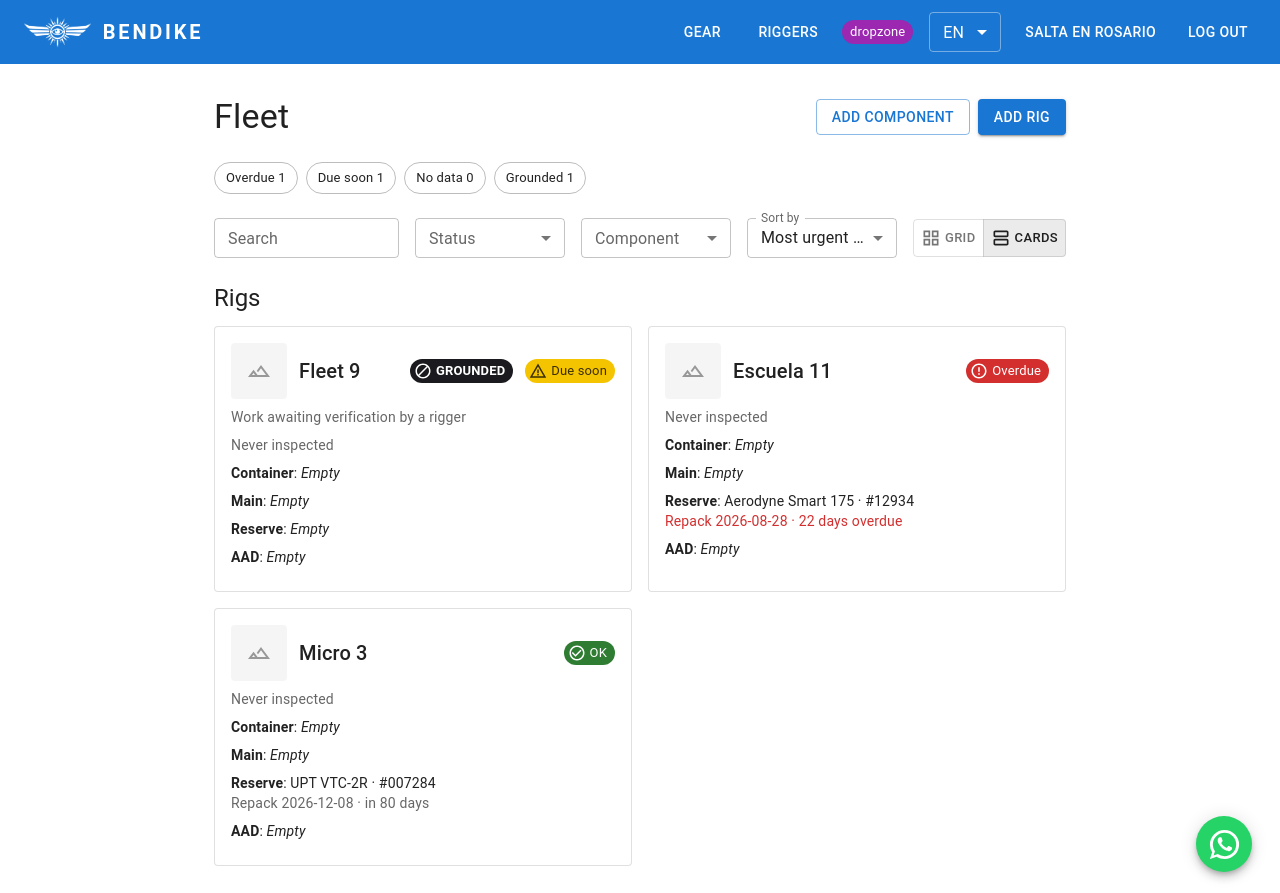
it: GearPage › searching by serial finds the rig
Check: the link "Micro 3" is shown, box [299,641,368,665]
Type "007284" into the field labelled "Search" at (306, 238), box [214,218,399,258]
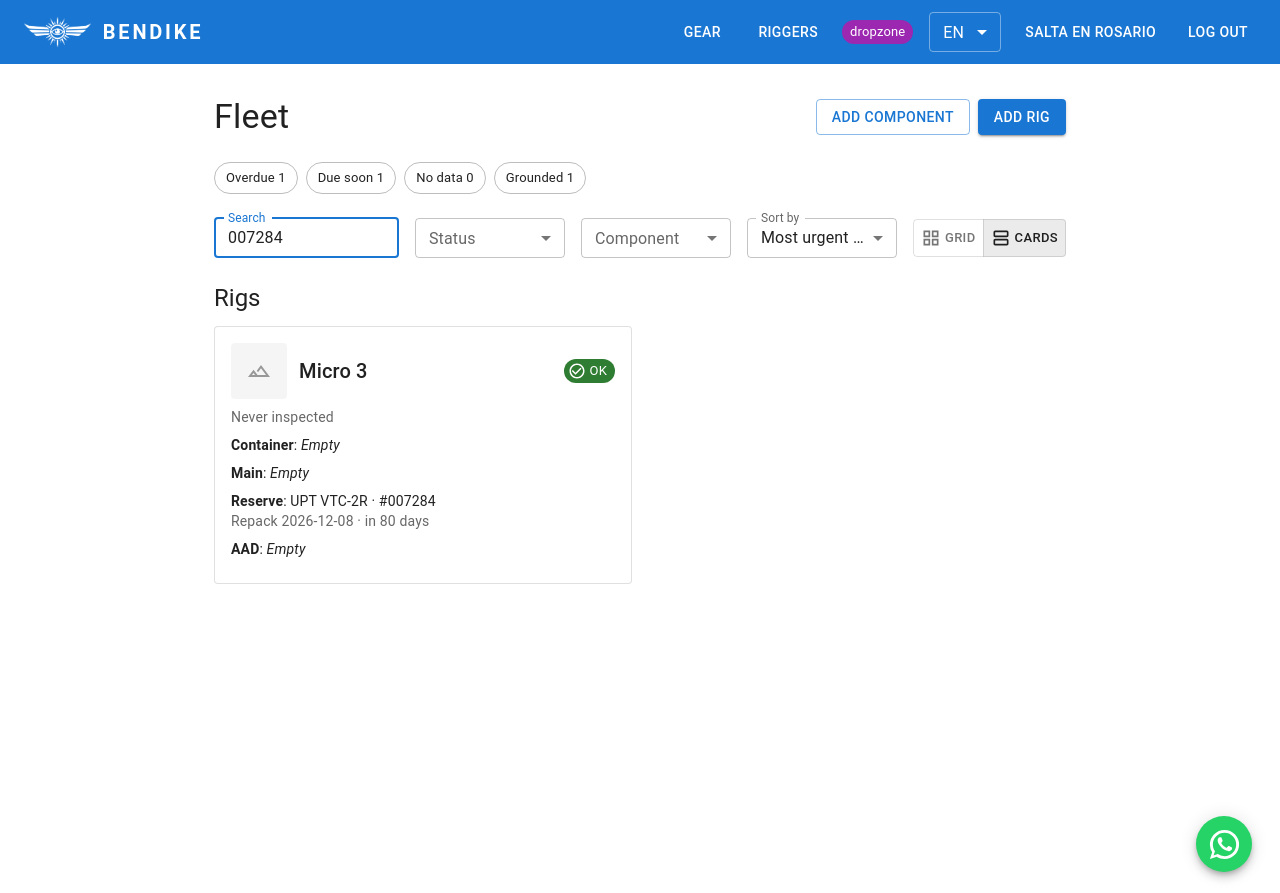
Check: the link "Micro 3" is shown, box [299,359,368,383]
Check: the link "Escuela 11" is gone
